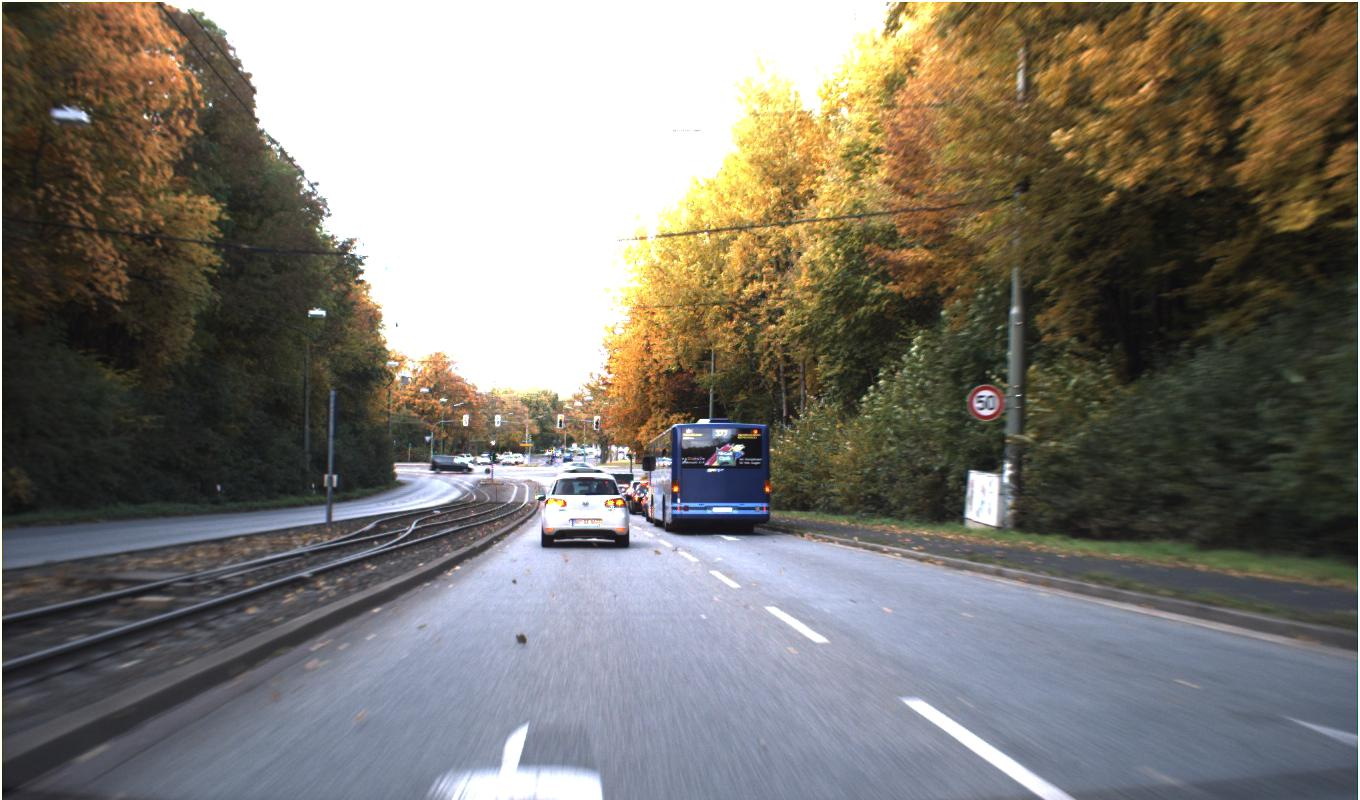prohibitory: (968, 384, 1004, 421)
